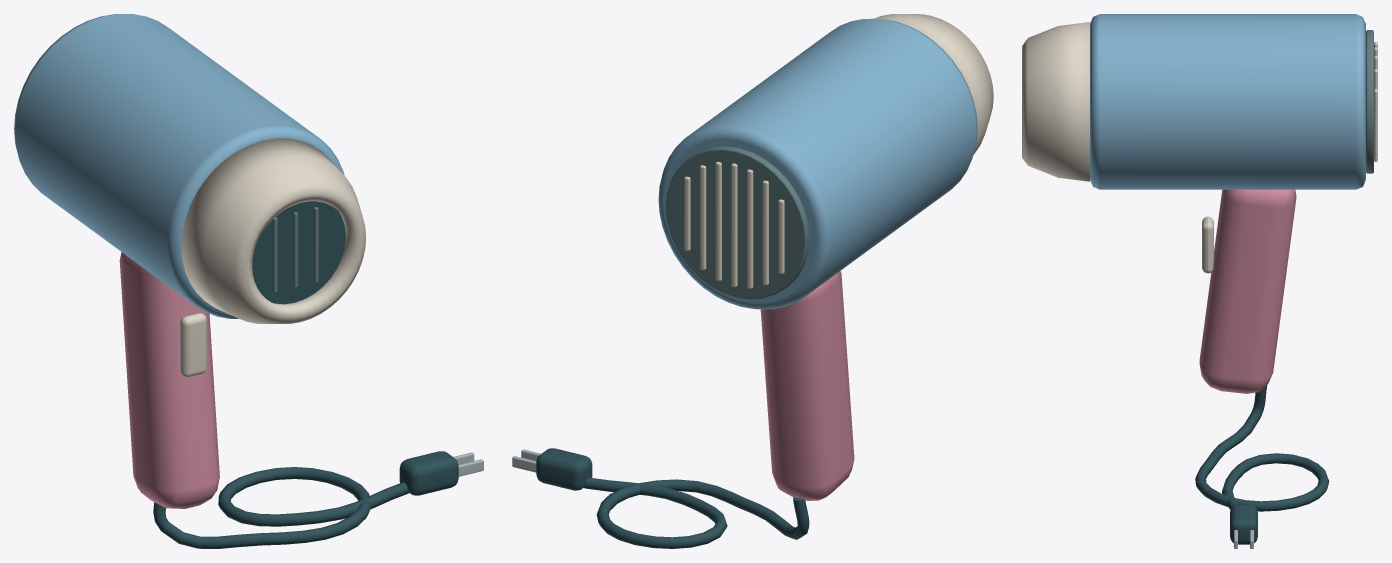
Rendered from lm_hair_dryer.glb.
3 renders of one model, left to right at view 1: azimuth 30°, elevation 25°; view 2: azimuth 150°, elevation 25°; view 3: azimuth 270°, elevation 25°, orthographic. The views are drawn at different scales.
Parts seen in each view (by area): view 1: prop; view 2: prop; view 3: prop.
Boxes of the visible parts, x1,y1,x2,y2 form: prop: (14,14,483,548); prop: (512,14,993,548); prop: (1022,14,1377,548).
Bounding box in the file's own units: 0.193 × 0.2264 × 0.178.
